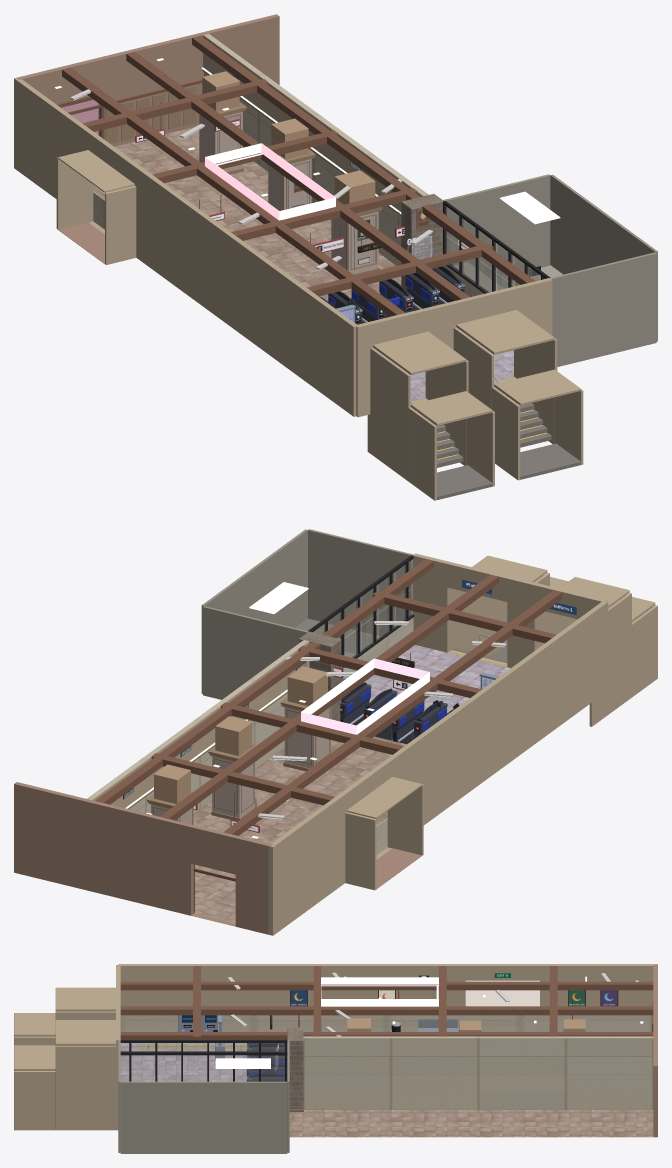
The model's file is platform-1-day.glb.
3 renders of one model, top to bottom at view 1: azimuth 30°, elevation 25°; view 2: azimuth 150°, elevation 25°; view 3: azimuth 270°, elevation 25°, orthographic. The views are drawn at different scales.
Parts seen in each view (by area): view 1: object 21, object 41, object 6, object 53, object 13, object 2, object 54, object 7, object 51, object 40, object 24, object 25 (+21 smaller); view 2: object 21, object 13, object 6, object 41, object 2, object 7, object 51, object 53, object 40, object 25, object 28, object 1 (+22 smaller); view 3: object 28, object 21, object 6, object 40, object 2, object 27, object 53, object 37, object 1, object 54, object 7, object 24 (+20 smaller).
Boxes of the visible parts, x1,y1,x2,y2 form: object 21: [14, 77, 356, 416]; object 41: [443, 174, 656, 366]; object 6: [62, 36, 535, 316]; object 53: [367, 327, 557, 480]; object 13: [17, 14, 279, 146]; object 2: [93, 127, 443, 322]; object 54: [408, 387, 583, 500]; object 7: [82, 79, 493, 296]; object 51: [355, 278, 552, 417]; object 40: [550, 174, 657, 341]; object 24: [58, 150, 580, 425]; object 25: [56, 157, 136, 264]; object 21: [268, 601, 608, 935]; object 13: [14, 782, 272, 934]; object 6: [95, 559, 562, 835]; object 41: [203, 529, 413, 699]; object 2: [194, 717, 413, 923]; object 7: [151, 591, 556, 805]; object 51: [412, 553, 607, 667]; object 53: [450, 572, 631, 726]; object 40: [201, 529, 307, 693]; object 25: [345, 784, 423, 890]; object 28: [87, 640, 308, 813]; object 1: [363, 645, 510, 713]; object 28: [303, 1036, 653, 1109]; object 21: [118, 964, 657, 1006]; object 6: [120, 981, 653, 1039]; object 40: [120, 1081, 287, 1153]; object 2: [247, 1044, 653, 1137]; object 27: [120, 1015, 651, 1031]; object 53: [55, 1011, 118, 1130]; object 37: [121, 1043, 284, 1081]; object 1: [120, 1043, 246, 1081]; object 54: [14, 1036, 55, 1130]; object 7: [193, 966, 557, 1039]; object 24: [14, 1013, 55, 1070].
Size of the model in its own units: 13.3 by 5.25 by 27.8.
165 materials, 44 textured.
